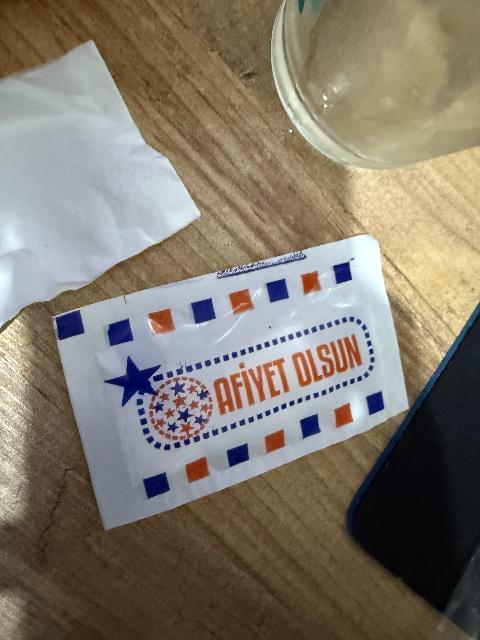Cam: (275, 0, 480, 170)
Plastik: (63, 237, 410, 510), (0, 43, 200, 298)
